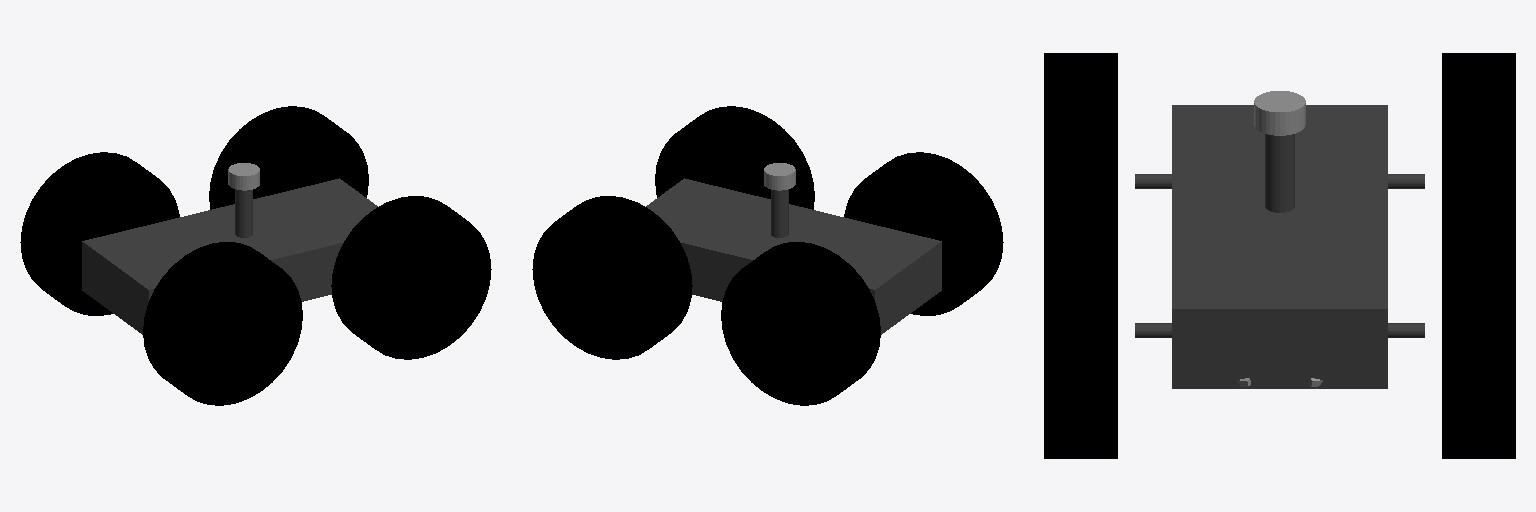
URDF robot description (robot):
<?xml version="1.0" ?>
<robot name="robot">

    <webots>
        <device reference="lidar" type="lidar">
            <ros>
                <enabled>true</enabled>
                <updateRate>10</updateRate>
                <topicName>/scan</topicName>
                <alwaysOn>true</alwaysOn>
                <frameName>lidar</frameName>
            </ros>
        </device>

        <plugin type="cibnor_sim.webots_robot_driver.RobotDriver"/>
    </webots>

    <!-- Colors -->
    <material name="light_gray">
        <color rgba="0.6 0.6 0.6 1.0"/>
    </material>

    <material name="gray">
        <color rgba="0.3 0.3 0.3 1.0"/>
    </material>

    <material name="black">
        <color rgba="0.0 0.0 0.0 1.0"/>
    </material>

    <!-- Robot body -->
    <link name="base_link">
        <visual>
            <geometry>
                <box size="0.656 0.294 0.12"/>
            </geometry>
            <material name="gray"/>
        </visual>
        <collision>
            <geometry>
                <box size="0.656 0.294 0.12"/>
            </geometry>
        </collision>
    </link>

    <!--Lidar-->
    <joint name="base_link_to_support_Lidar" type="fixed">
        <parent link="base_link"/>
        <child link="support_Lidar"/>
        <origin xyz="0 0 0.11" rpy="0 0 0"/>
    </joint>

    <link name="support_Lidar">
        <visual>
            <origin xyz="0 0 0" rpy="0 0 0"/>
            <geometry>
                <cylinder radius="0.02" length="0.15"/>
            </geometry>
            <material name="gray"/>
        </visual>
        <collision>
            <origin xyz="0 0 0" rpy="0 0 0"/>
            <geometry>
                <cylinder radius="0.02" length="0.15"/>
            </geometry>
        </collision>
    </link>

    <joint name="support_Lidar_to_lidar" type="fixed">
        <parent link="support_Lidar"/>
        <child link="lidar"/>
        <origin xyz="0 0 0.09" rpy="0 0 0"/>
    </joint>

    <link name="lidar">
        <visual>
            <origin xyz="0 0 0" rpy="0 0 0"/>
            <geometry>
                <cylinder radius="0.035" length="0.035"/>
            </geometry>
            <material name="light_gray"/>
        </visual>
        <collision>
            <origin xyz="0 0 0" rpy="0 0 0"/>
            <geometry>
                <cylinder radius="0.035" length="0.035"/>
            </geometry>
        </collision>
    </link>

    <!--Hinges-->
    <joint name="base_link_to_hinge_BL" type="fixed">
        <parent link="base_link"/>
        <child link="hinge_BL"/>
        <origin xyz="-0.21 0.17 0" rpy="1.5708006 0.0000019 -3.1415908"/>
    </joint>

    <link name="hinge_BL">
        <visual>
            <origin xyz="0 0 0" rpy="0 0 0"/>
            <geometry>
                <cylinder radius="0.01" length="0.055"/>
            </geometry>
            <material name="gray"/>
        </visual>
        <collision>
            <origin xyz="0 0 0" rpy="0 0 0"/>
            <geometry>
                <cylinder radius="0.01" length="0.055"/>
            </geometry>
        </collision>
    </link>

    <joint name="base_link_to_hinge_FL" type="fixed">
        <parent link="base_link"/>
        <child link="hinge_FL"/>
        <origin xyz="0.27 0.17 0" rpy="1.5708006 0.0000019 -3.1415908"/>
    </joint>

    <link name="hinge_FL">
        <visual>
            <origin xyz="0 0 0" rpy="0 0 0"/>
            <geometry>
                <cylinder radius="0.01" length="0.055"/>
            </geometry>
            <material name="gray"/>
        </visual>
        <collision>
            <origin xyz="0 0 0" rpy="0 0 0"/>
            <geometry>
                <cylinder radius="0.01" length="0.055"/>
            </geometry>
        </collision>
    </link>

    <joint name="base_link_to_hinge_BR" type="fixed">
        <parent link="base_link"/>
        <child link="hinge_BR"/>
        <origin xyz="-0.21 -0.17 0" rpy="1.5708006 0.0000019 -3.1415908"/>
    </joint>

    <link name="hinge_BR">
        <visual>
            <origin xyz="0 0 0" rpy="0 0 0"/>
            <geometry>
                <cylinder radius="0.01" length="0.055"/>
            </geometry>
            <material name="gray"/>
        </visual>
        <collision>
            <origin xyz="0 0 0" rpy="0 0 0"/>
            <geometry>
                <cylinder radius="0.01" length="0.055"/>
            </geometry>
        </collision>
    </link>

    <joint name="base_link_to_hinge_FR" type="fixed">
        <parent link="base_link"/>
        <child link="hinge_FR"/>
        <origin xyz="0.27 -0.17 0" rpy="1.5708006 0.0000019 -3.1415908"/>
    </joint>

    <link name="hinge_FR">
        <visual>
            <origin xyz="0 0 0" rpy="0 0 0"/>
            <geometry>
                <cylinder radius="0.01" length="0.055"/>
            </geometry>
            <material name="gray"/>
        </visual>
        <collision>
            <origin xyz="0 0 0" rpy="0 0 0"/>
            <geometry>
                <cylinder radius="0.01" length="0.055"/>
            </geometry>
        </collision>
    </link>

    <!-- Front-Right Wheel -->
    <joint name="motor_FR" type="continuous">
        <parent link="hinge_FR"/>
        <child link="wheel_FR"/>
        <axis xyz="0 0 -1"/>
        <limit effort="10" velocity="10"/>
        <origin xyz="0 0 -0.1" rpy="0 0 0"/>
    </joint>

    <link name="wheel_FR">
        <visual>
            <origin xyz="0 0 0" rpy="0 0 0"/>
            <geometry>
                <cylinder radius="0.175" length="0.1"/>
            </geometry>
            <material name="black"/>
        </visual>
        <collision>
            <origin xyz="0 0 0" rpy="0 0 0"/>
            <geometry>
                <cylinder radius="0.175" length="0.1"/>
            </geometry>
        </collision>
    </link>

    <!-- Back-Right Wheel -->
    <joint name="motor_BR" type="continuous">
        <parent link="hinge_BR"/>
        <child link="wheel_BR"/>
        <axis xyz="0 0 -1"/>
        <limit effort="10" velocity="10"/>
        <origin xyz="0 0 -0.1" rpy="0 0 0"/>
    </joint>

    <link name="wheel_BR">
        <visual>
            <origin xyz="0 0 0" rpy="0 0 0"/>
            <geometry>
                <cylinder radius="0.175" length="0.1"/>
            </geometry>
            <material name="black"/>
        </visual>
        <collision>
            <origin xyz="0 0 0" rpy="0 0 0"/>
            <geometry>
                <cylinder radius="0.175" length="0.1"/>
            </geometry>
        </collision>
    </link>

    <!-- Front-Left Wheel -->
    <joint name="motor_FL" type="continuous">
        <parent link="hinge_FL"/>
        <child link="wheel_FL"/>
        <axis xyz="0 0 1"/>
        <limit effort="10" velocity="10"/>
        <origin xyz="0 0 0.1" rpy="0 0 0"/>
    </joint>

    <link name="wheel_FL">
        <visual>
            <origin xyz="0 0 0" rpy="0 0 0"/>
            <geometry>
                <cylinder radius="0.175" length="0.1"/>
            </geometry>
            <material name="black"/>
        </visual>
        <collision>
            <origin xyz="0 0 0" rpy="0 0 0"/>
            <geometry>
                <cylinder radius="0.175" length="0.1"/>
            </geometry>
        </collision>
    </link>

    <!-- Back-Left Wheel -->
    <joint name="motor_BL" type="continuous">
        <parent link="hinge_BL"/>
        <child link="wheel_BL"/>
        <axis xyz="0 0 1"/>
        <limit effort="10" velocity="10"/>
        <origin xyz="0 0 0.1" rpy="0 0 0"/>
    </joint>

    <link name="wheel_BL">
        <visual>
            <origin xyz="0 0 0" rpy="0 0 0"/>
            <geometry>
                <cylinder radius="0.175" length="0.1"/>
            </geometry>
            <material name="black"/>
        </visual>
        <collision>
            <origin xyz="0 0 0" rpy="0 0 0"/>
            <geometry>
                <cylinder radius="0.175" length="0.1"/>
            </geometry>
        </collision>
    </link>

    <!-- Right sensor -->
    <joint name="base_link_to_ds_R" type="fixed">
        <parent link="base_link"/>
        <child link="ds_R"/>
        <origin xyz="0.326 -0.05 -0.05" rpy="0.1160253 0.2352153 -0.4637244"/>
    </joint>

    <link name="ds_R">
        <visual>
            <origin xyz="0 0 0" rpy="0 0 0"/>
            <geometry>
                <box size="0.01 0.02 0.01"/>
            </geometry>
            <material name="light_gray"/>
        </visual>
        <collision>
            <origin xyz="0 0 0" rpy="0 0 0"/>
            <geometry>
                <box size="0.01 0.02 0.01"/>
            </geometry>
        </collision>
        <sensor name="ds_sensor_R" type="ray">
            <origin xyz="0 0 0" rpy="0 0 0"/>
            <range>
                <min>0.05</min>
                <max>0.15</max>
                <resolution>0.001</resolution>
            </range>
            <noise>
                <type>gaussian</type>
                <mean>0</mean>
                <stddev>0.02</stddev>
            </noise>
        </sensor>
  </link>

  <!-- Left sensor -->
    <joint name="base_link_to_ds_L" type="fixed">
        <parent link="base_link"/>
        <child link="ds_L"/>
        <origin xyz="0.326 0.05 -0.05" rpy="-0.1160253 0.2352153 0.4637244"/>
    </joint>

    <link name="ds_L">
        <visual>
            <origin xyz="0 0 0" rpy="0 0 0"/>
            <geometry>
                <box size="0.01 0.02 0.01"/>
            </geometry>
            <material name="light_gray"/>
        </visual>
        <collision>
            <origin xyz="0 0 0" rpy="0 0 0"/>
            <geometry>
                <box size="0.01 0.02 0.01"/>
            </geometry>
        </collision>
        <sensor name="ds_sensor_L" type="ray">
            <origin xyz="0 0 0" rpy="0 0 0"/>
            <range>
                <min>0.05</min>
                <max>0.15</max>
                <resolution>0.001</resolution>
            </range>
            <noise>
                <type>gaussian</type>
                <mean>0</mean>
                <stddev>0.02</stddev>
            </noise>
        </sensor>
  </link>

</robot>

--- What the picture shows (computed from the rendered views, not written in the file) ---
The picture shows the robot from 3 angles, left to right: view 1: azimuth 30°, elevation 25°; view 2: azimuth 150°, elevation 25°; view 3: azimuth 270°, elevation 25°; orthographic projection.
Robot: robot — 13 links, 12 joints (4 continuous, 8 fixed); root link base_link; default pose: all joints at 0.
Visible links, largest first — view 1: wheel_BR, wheel_FR, base_link, wheel_BL, wheel_FL, support_Lidar, lidar; view 2: wheel_BL, wheel_FL, base_link, wheel_BR, wheel_FR, support_Lidar, lidar; view 3: base_link, wheel_FR, wheel_FL, wheel_BR, wheel_BL, support_Lidar, lidar, hinge_BL, hinge_FL, hinge_BR, hinge_FR.
Boxes of the visible links, <box> form: wheel_BR: <box>143,242,302,405</box>; wheel_FR: <box>331,196,491,359</box>; base_link: <box>82,178,377,334</box>; wheel_BL: <box>20,152,179,315</box>; wheel_FL: <box>209,106,368,209</box>; support_Lidar: <box>235,189,252,237</box>; lidar: <box>228,163,259,190</box>; wheel_BL: <box>721,242,880,405</box>; wheel_FL: <box>532,196,692,359</box>; base_link: <box>646,178,941,334</box>; wheel_BR: <box>844,152,1003,315</box>; wheel_FR: <box>655,106,814,209</box>; support_Lidar: <box>771,189,788,237</box>; lidar: <box>764,163,795,190</box>; base_link: <box>1172,105,1387,388</box>; wheel_FR: <box>1044,202,1117,458</box>; wheel_FL: <box>1442,202,1515,458</box>; wheel_BR: <box>1044,53,1117,201</box>; wheel_BL: <box>1442,53,1515,201</box>; support_Lidar: <box>1265,134,1294,212</box>; lidar: <box>1254,91,1305,135</box>; hinge_BL: <box>1388,174,1424,188</box>; hinge_FL: <box>1388,323,1424,337</box>; hinge_BR: <box>1135,174,1171,188</box>; hinge_FR: <box>1135,323,1171,337</box>.
Size in the robot's own frame: 0.83 by 0.64 by 0.3925 metres.
Geometry: primitives only (box / cylinder / sphere), no mesh files.
